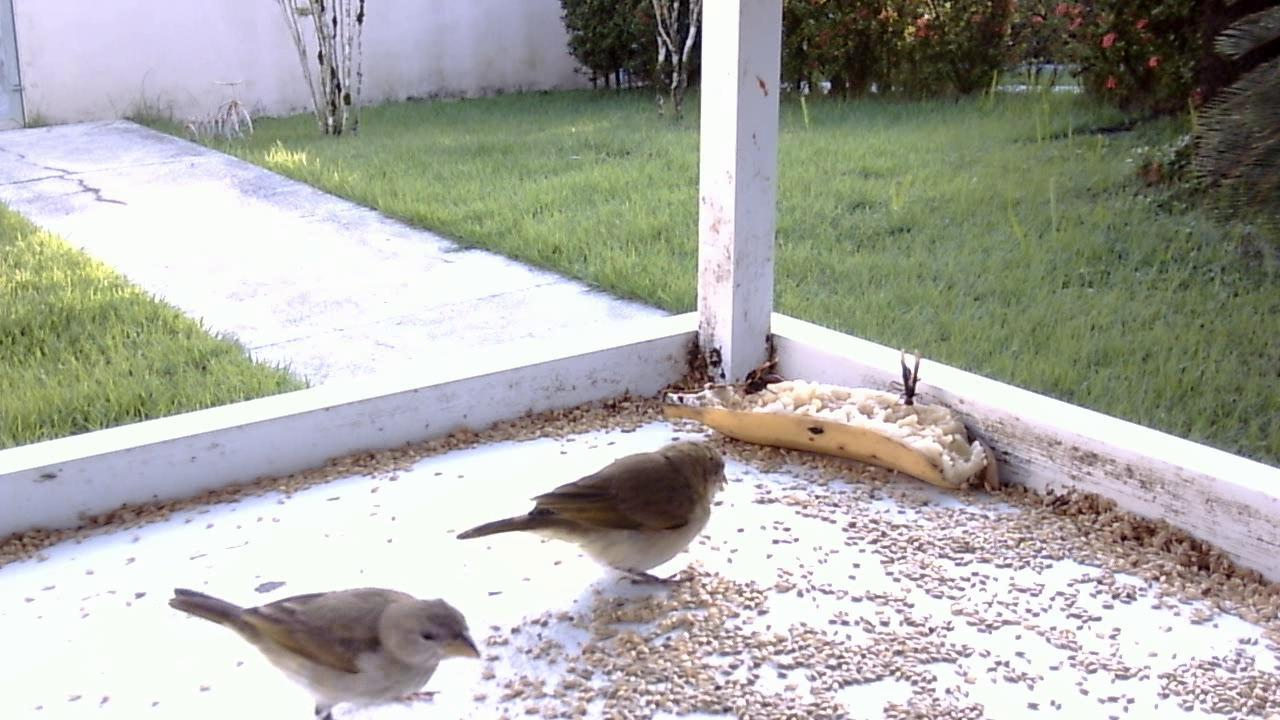canario_do_amazonas: (447, 436, 736, 606), (159, 575, 483, 716)
